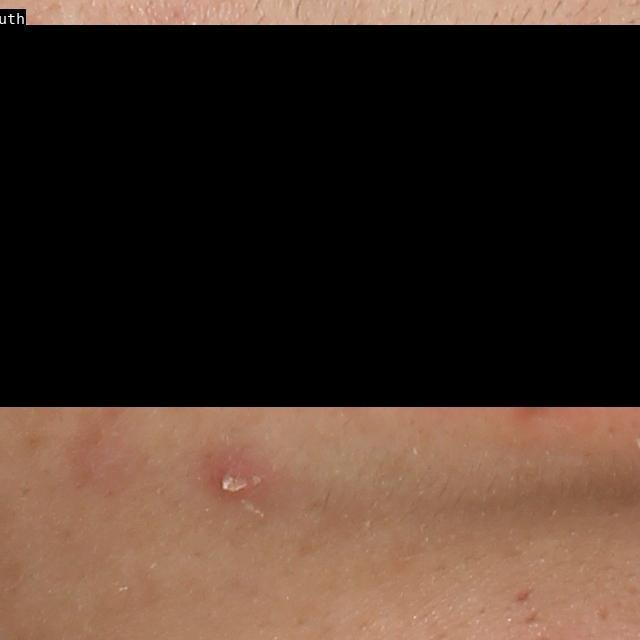atrophic_scar: (522, 605, 544, 627), (514, 587, 533, 601)
